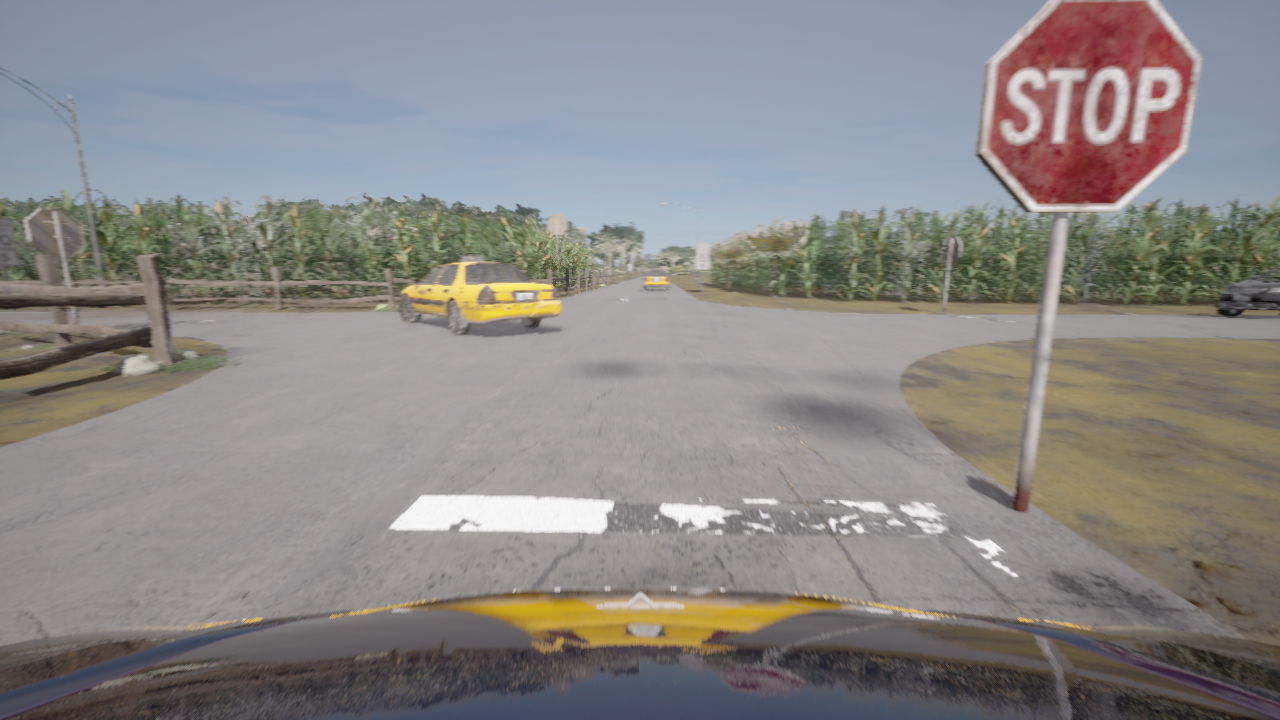cyclist: (0, 588, 1279, 719), (399, 255, 559, 335), (1216, 267, 1279, 317), (643, 268, 669, 290)
